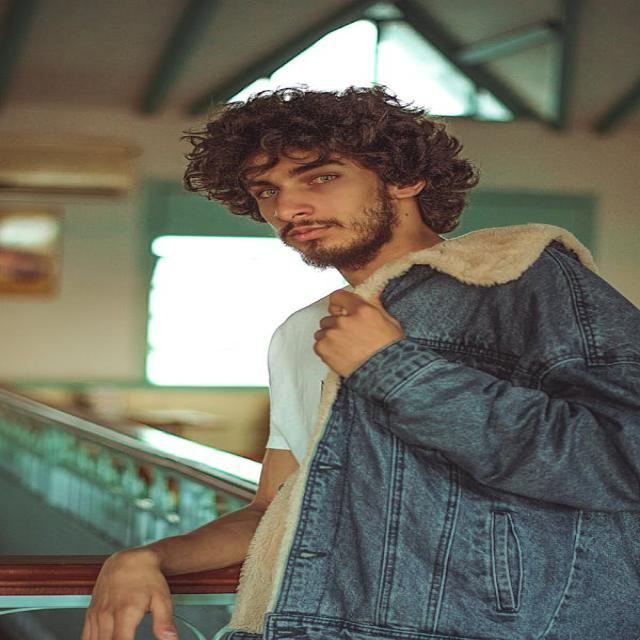Real human 2: (75, 80, 640, 628)
